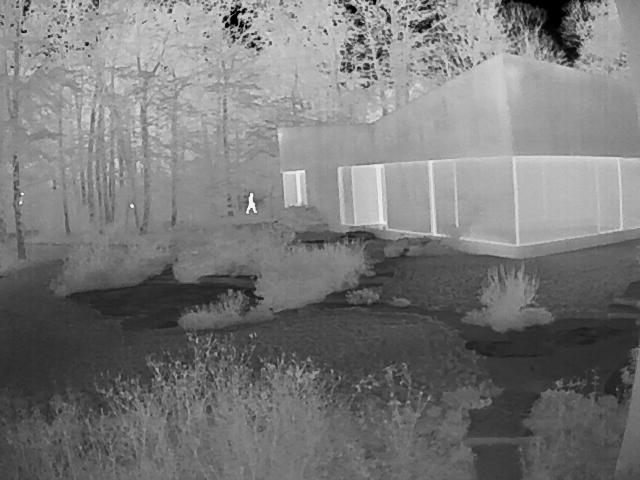person: (246, 191, 258, 214)
